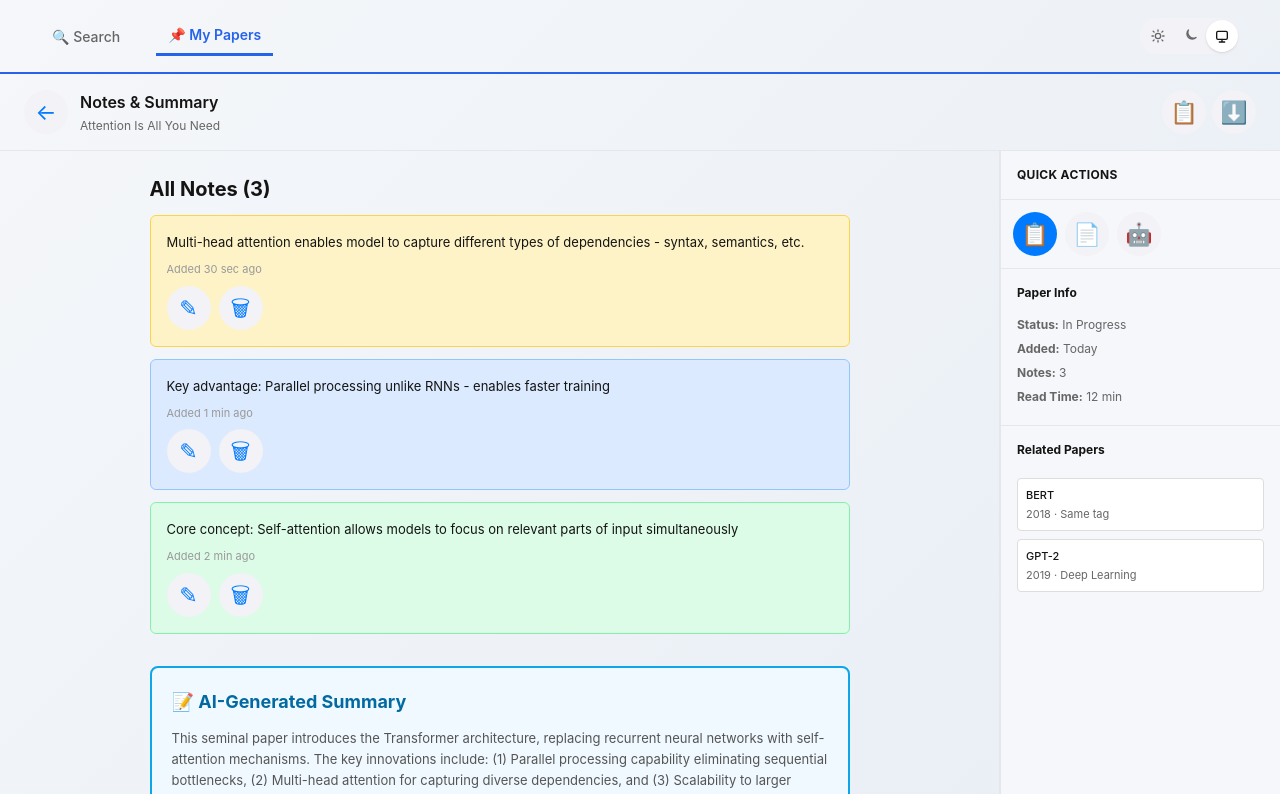
it: UX: Notes & Summary › When the user deletes a note, Then it is no longer listed
Expected: the heading "All Notes (3)" is shown, [150, 177, 270, 201]
Expected: the text "Multi-head attention enables model" is shown, [166, 234, 804, 250]
Click the button named "delete". click: x=240, y=308
box: [218, 286, 262, 330]
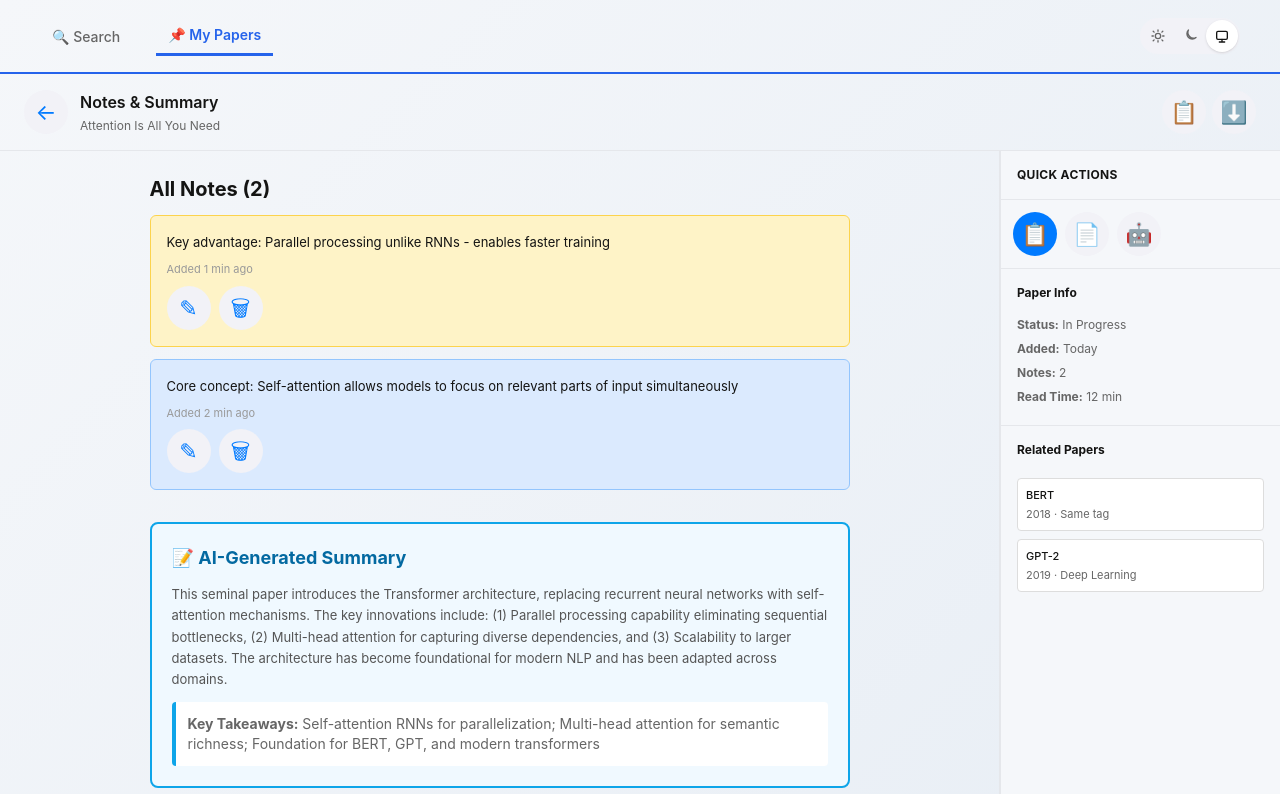
Expected: the text "Multi-head attention enables model" is gone
